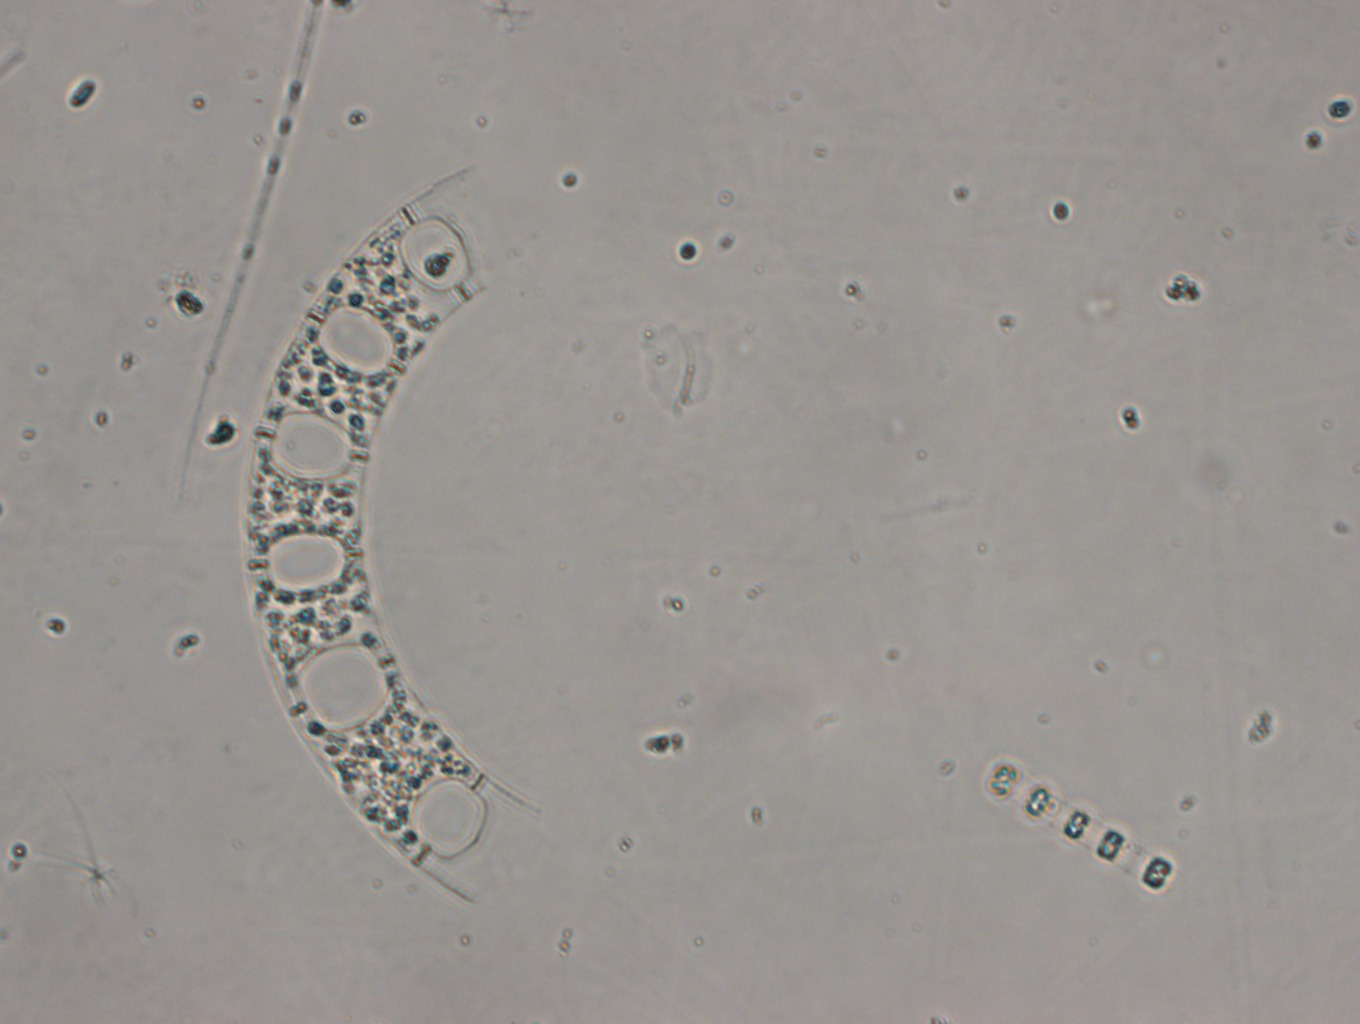eucampia: (243, 158, 539, 901)
skeletonema: (982, 756, 1179, 894)
